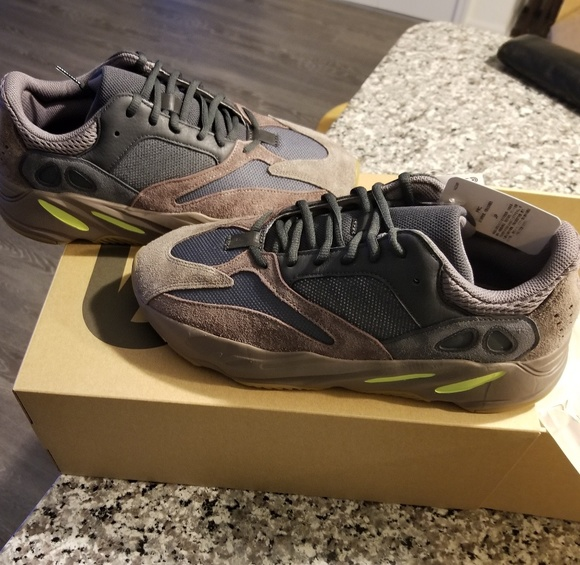adidas Yeezy 700 Mauve: (128, 159, 580, 423), (1, 46, 381, 260)
